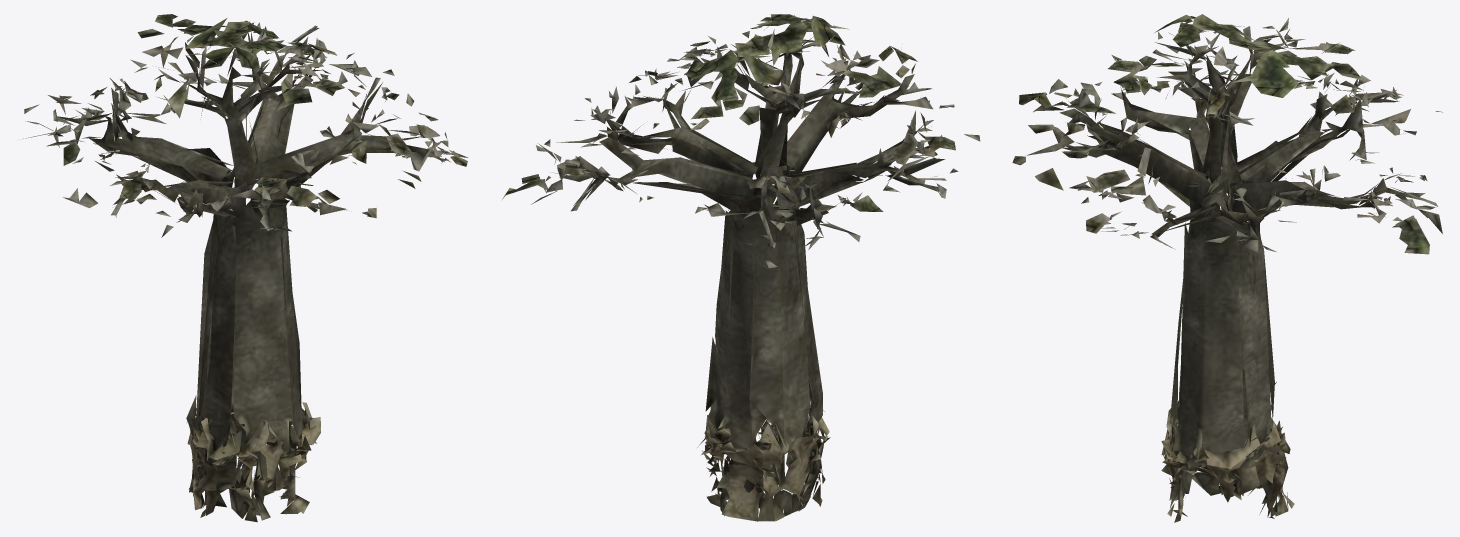
Rendered from baoba_zahar_adulta-lod.glb.
3 renders of one model, left to right at view 1: azimuth 30°, elevation 25°; view 2: azimuth 150°, elevation 25°; view 3: azimuth 270°, elevation 25°, orthographic.
Visible parts, largest first — view 1: geometry_0; view 2: geometry_0; view 3: geometry_0.
Boxes of the visible parts, x1=… form: geometry_0: x1=23, y1=14, x2=468, y2=522; geometry_0: x1=502, y1=14, x2=980, y2=521; geometry_0: x1=1012, y1=14, x2=1442, y2=522.
Bounding box in the file's own units: 0.7925 × 0.9946 × 0.8171.
Materials: 1 (1 with a texture image).
